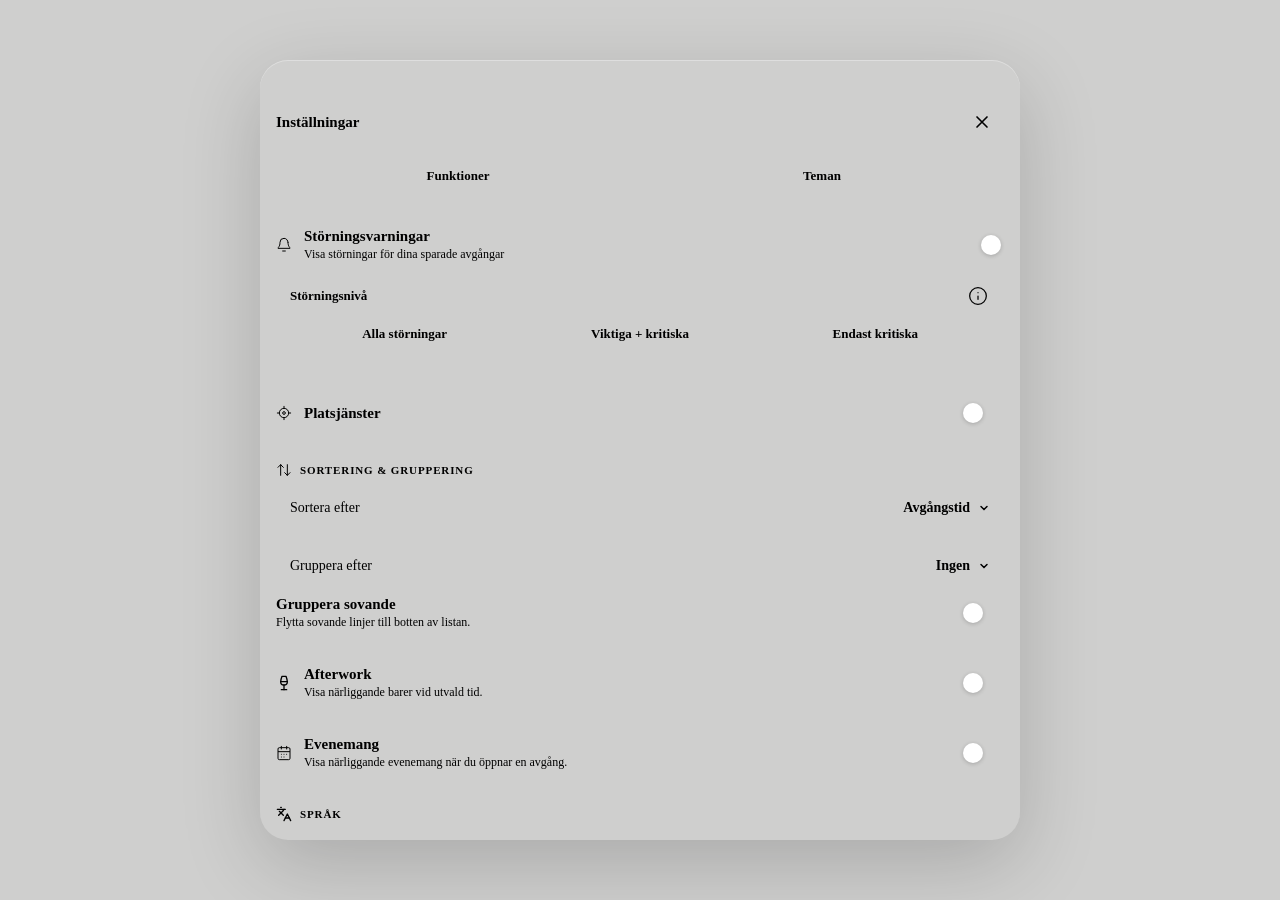
SettingsPanel location controls › keeps the system theme description on its card without duplicate copy
Click the tab "Teman" at (822, 176), box [640, 156, 1004, 196]
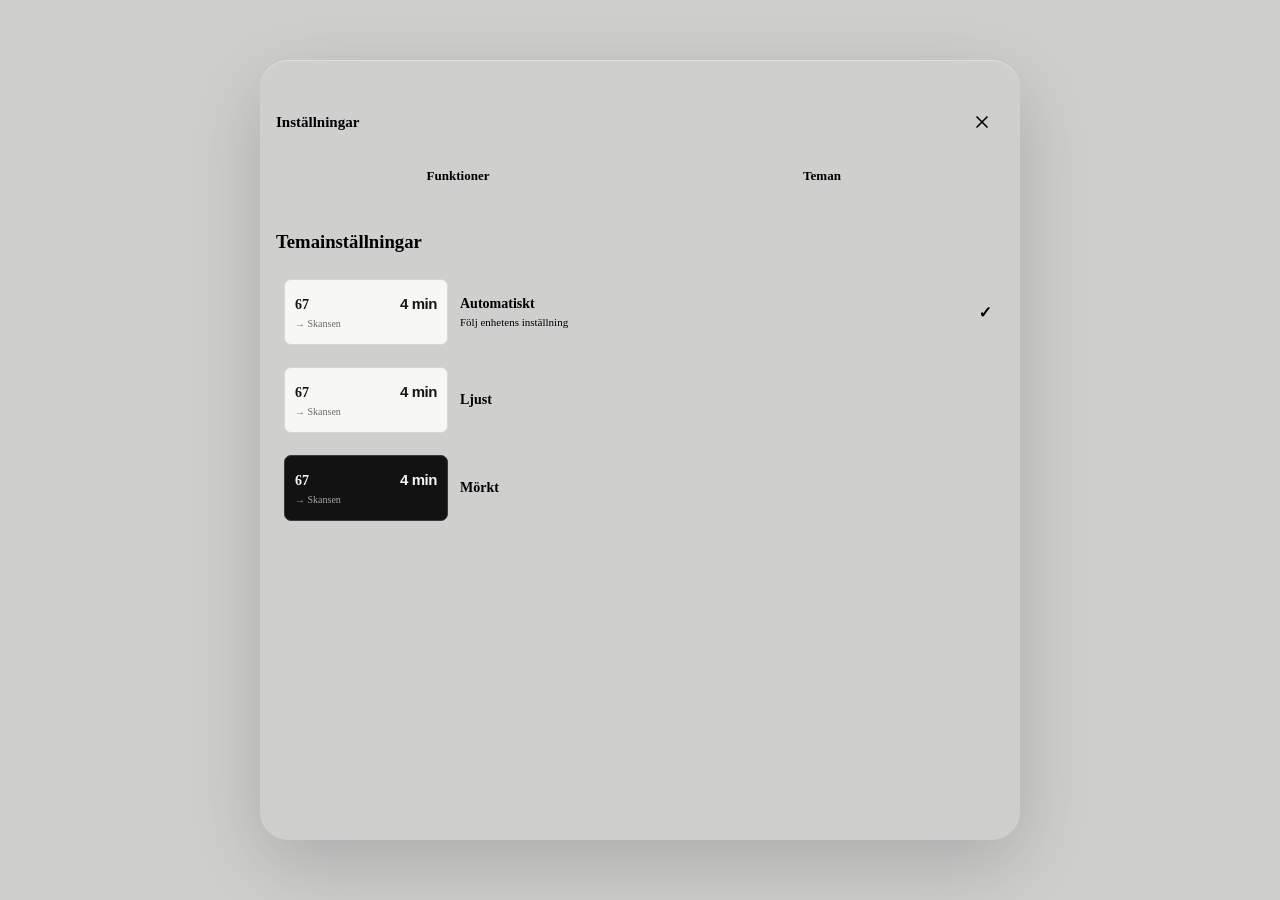
Expected: the heading "Temainställningar" is shown, [276, 231, 422, 252]
Expected: the number of elements with class "theme-choice-description" is 1, [460, 316, 568, 328]
